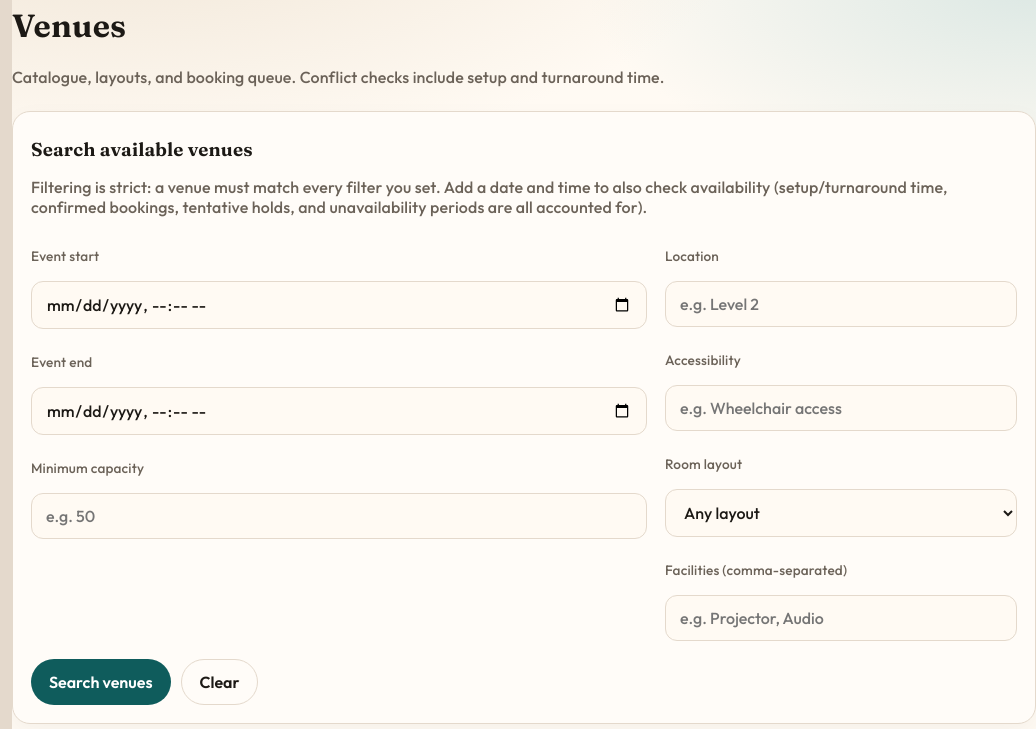
Test case: SCUM-24 venue search results › lets the coordinator select a result to view more details, and close it again
The width and height of the screenshot is (1036, 729).
What coordinates should you click on to do the following:
click the button "Search venues"
I would click on:
 (101, 682)
Its box is [31, 659, 170, 705].
(page scrolled)
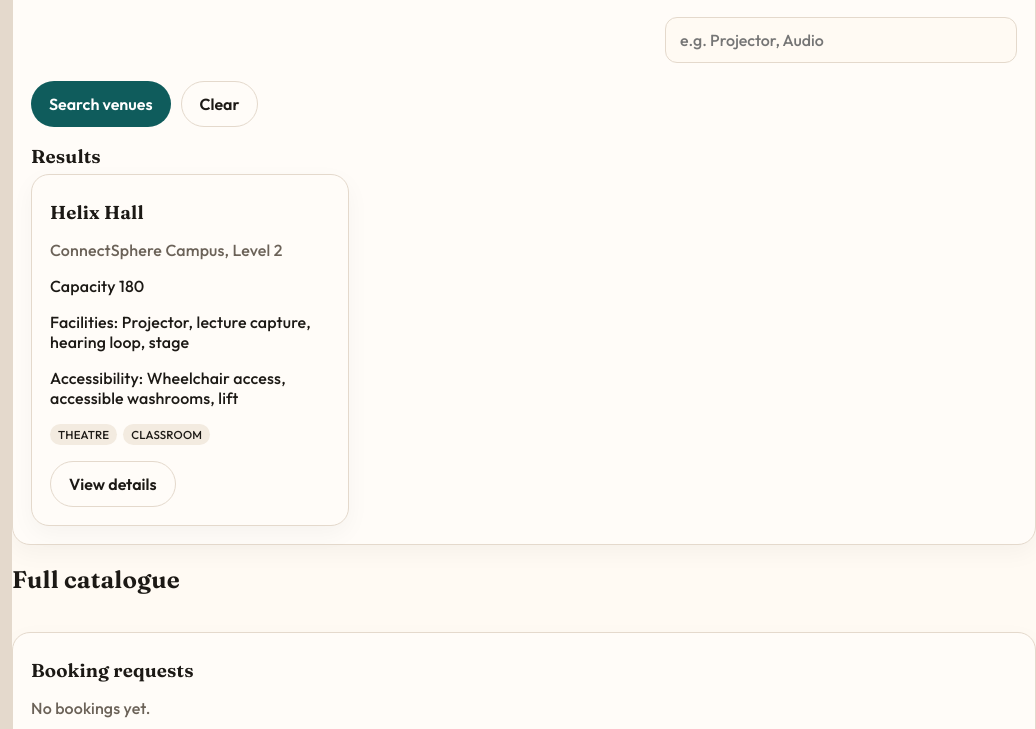
What coordinates should you click on to do the following:
click the button "View details"
I would click on:
 (113, 484)
Its box is [50, 461, 176, 507].
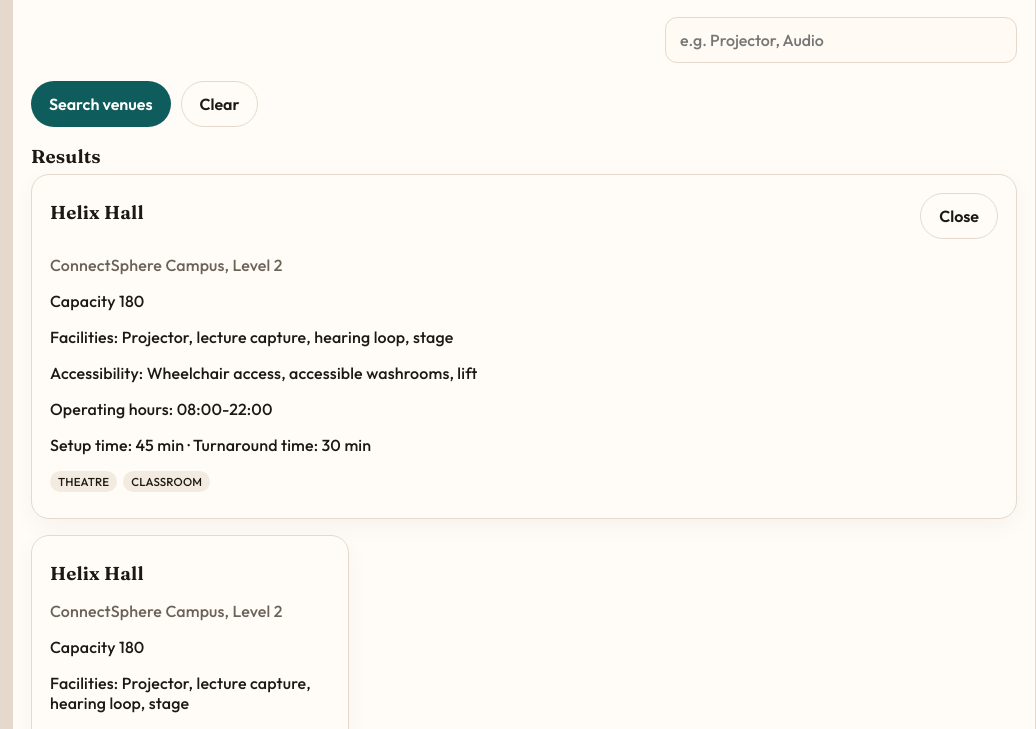
Now the text "Operating hours: 08:00-22:00" is shown, box [50, 399, 273, 419]
Now the text "Setup time: 45 min · Turnaround time: 30 min" is shown, box [50, 435, 371, 455]
What coordinates should you click on to do the following:
click the button "Close"
I would click on:
 (959, 216)
Its box is [920, 193, 998, 239].
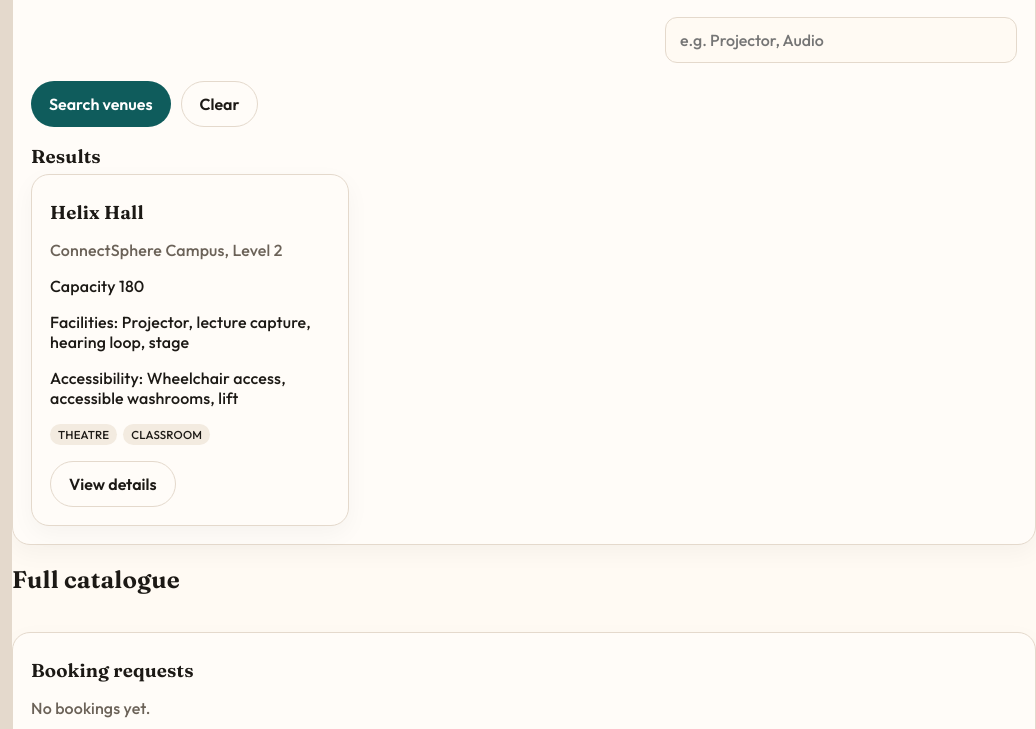
Now the text "Operating hours: 08:00-22:00" is gone
